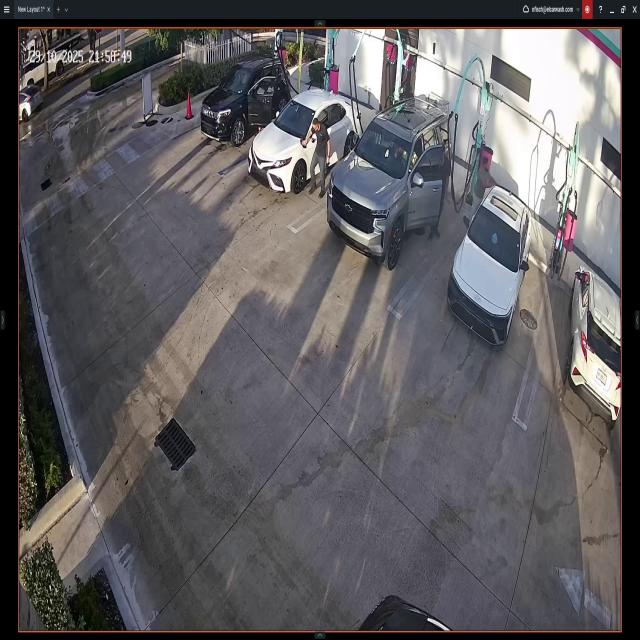Car: (324, 97, 450, 264), (449, 186, 529, 352), (251, 89, 360, 191), (569, 270, 621, 423), (200, 62, 284, 139), (19, 87, 41, 122)
